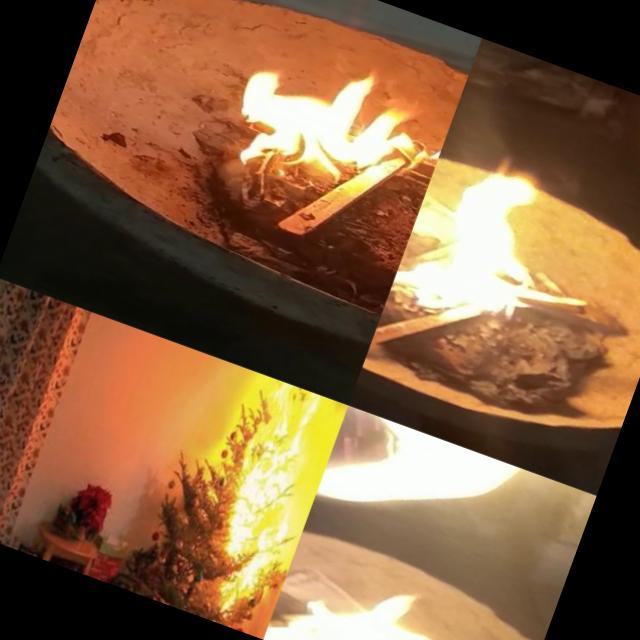fire: (189, 18, 460, 226), (311, 406, 596, 598), (188, 378, 348, 635), (383, 143, 568, 354), (263, 550, 457, 640)
